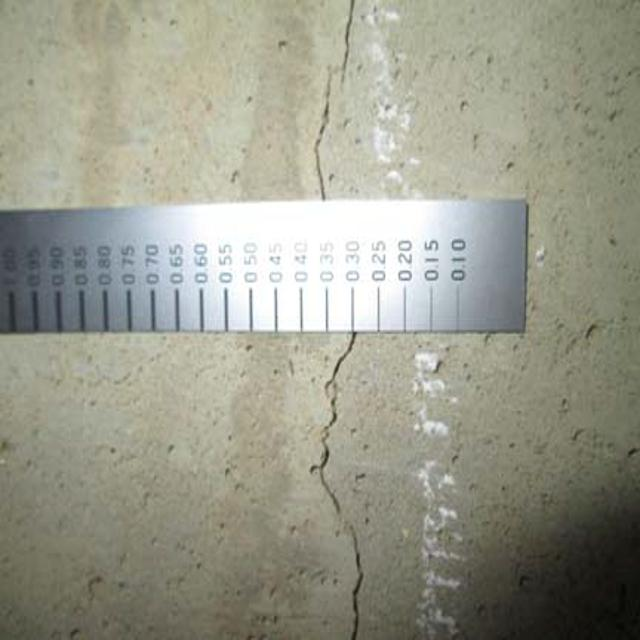crack: (290, 334, 393, 640), (284, 0, 367, 209)
